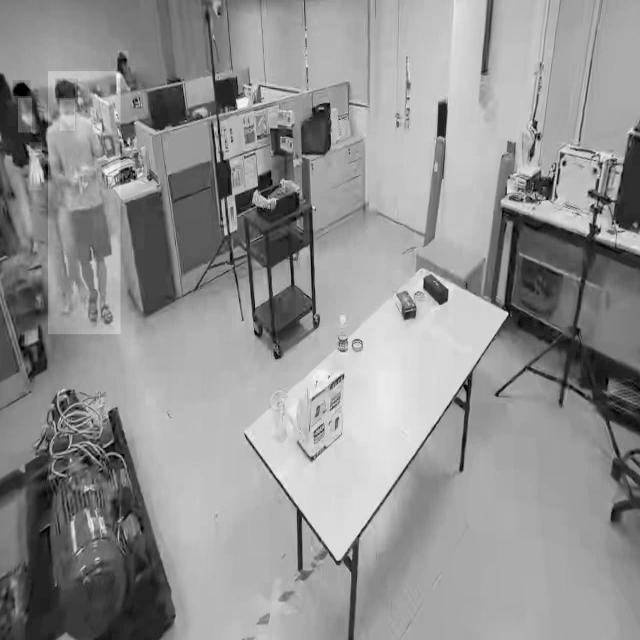face_mask: (18, 98, 32, 133), (59, 100, 75, 130)
hand_glove: (28, 142, 42, 191)
hand_noglove: (81, 163, 93, 181)
head_nohelmet: (54, 78, 78, 99), (12, 80, 30, 97), (118, 50, 128, 60)
person: (48, 71, 120, 335)
